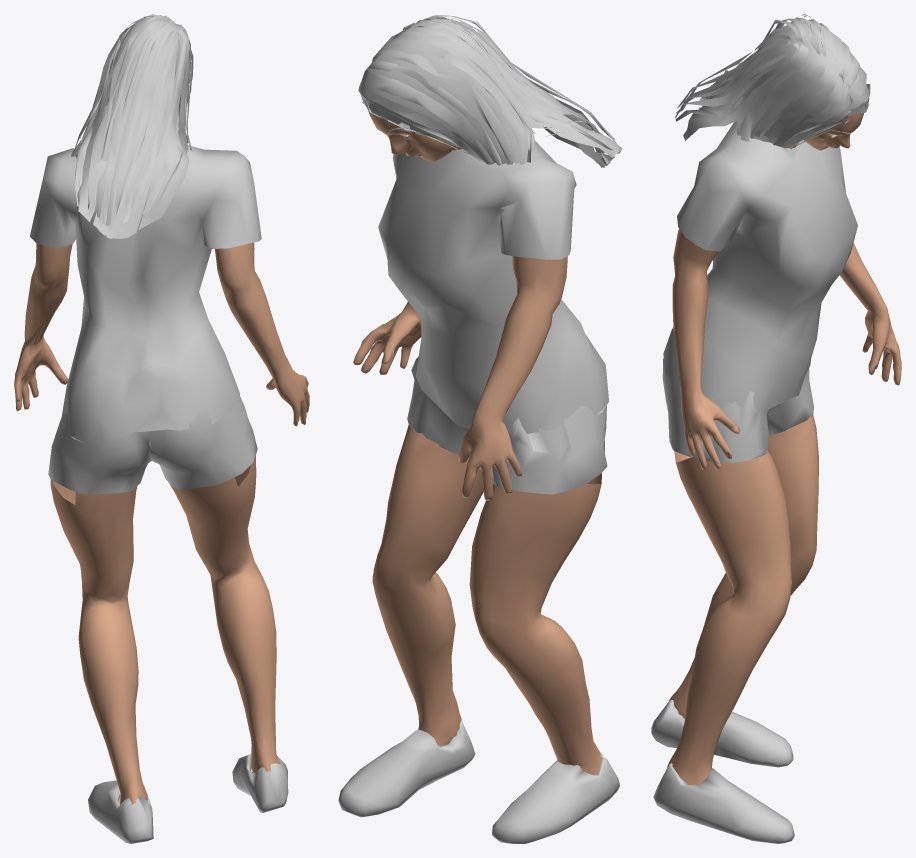
Rendered from player2att_000006.obj.
3 views of the same model, side by side, from view 1: azimuth 30°, elevation 25°; view 2: azimuth 150°, elevation 25°; view 3: azimuth 270°, elevation 25° (orthographic). The views are drawn at different scales.
Visible parts, largest first — view 1: player2:Body, player2:tshirt02, player2:fhair01, player2:short01, player2:shoes02; view 2: player2:Body, player2:tshirt02, player2:fhair01, player2:shoes02, player2:short01; view 3: player2:Body, player2:tshirt02, player2:fhair01, player2:shoes02, player2:short01.
Boxes of the visible parts, left/top/right/bottom form: player2:Body: left=14, top=242, right=309, bottom=804; player2:tshirt02: left=30, top=145, right=261, bottom=443; player2:fhair01: left=71, top=14, right=193, bottom=238; player2:short01: left=48, top=396, right=257, bottom=494; player2:shoes02: left=88, top=753, right=288, bottom=843; player2:Body: left=353, top=109, right=602, bottom=775; player2:tshirt02: left=378, top=141, right=608, bottom=436; player2:fhair01: left=358, top=15, right=622, bottom=167; player2:shoes02: left=338, top=719, right=619, bottom=843; player2:short01: left=407, top=357, right=607, bottom=494; player2:Body: left=667, top=113, right=901, bottom=785; player2:tshirt02: left=663, top=121, right=857, bottom=412; player2:fhair01: left=675, top=14, right=870, bottom=148; player2:shoes02: left=651, top=700, right=794, bottom=843; player2:short01: left=662, top=350, right=813, bottom=462.
Bounding box in the file's own units: 5.29 × 16.21 × 4.74.
